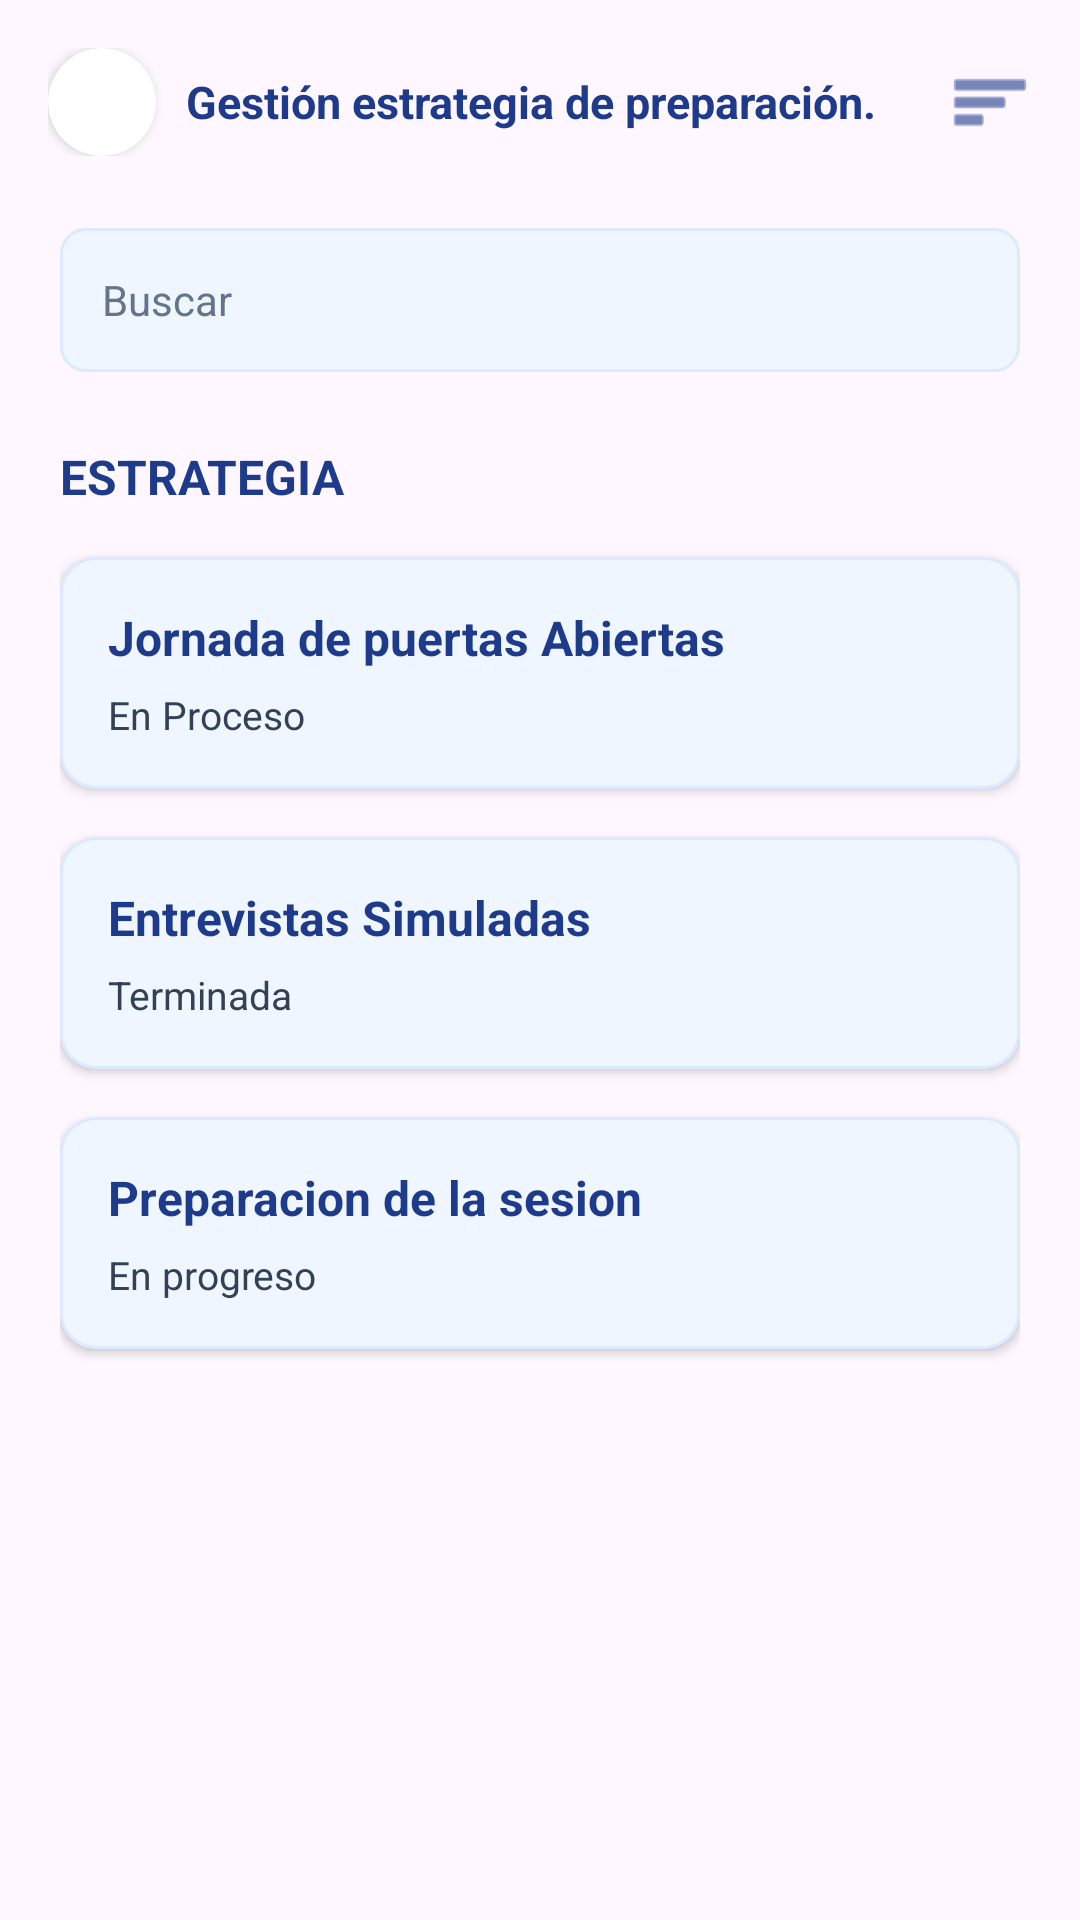

Icon click points for this 1080x1920 phone screenshot, format (x=x, y=y):
Menú: (x=990, y=102)
